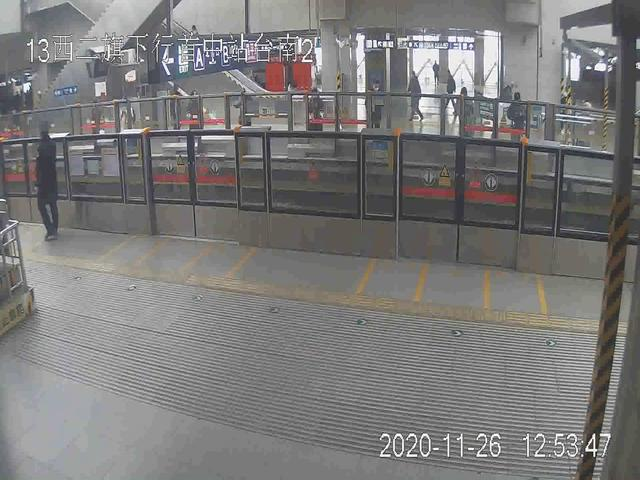person: (33, 127, 67, 241)
